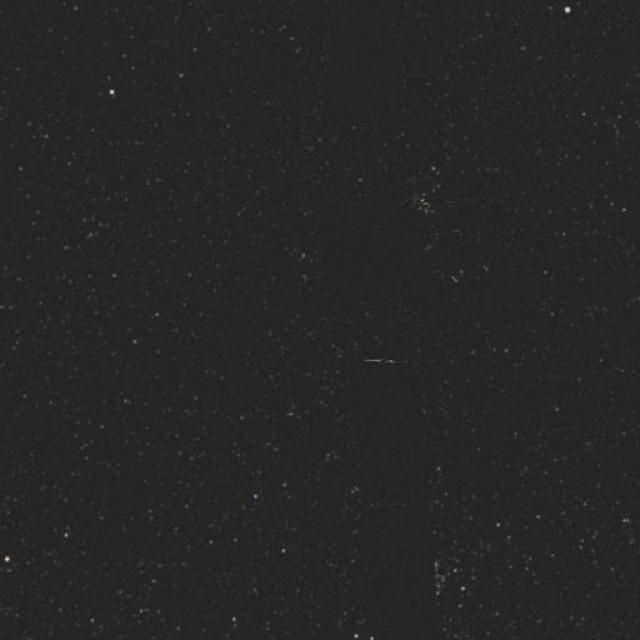smart_1: (328, 229, 482, 561)
